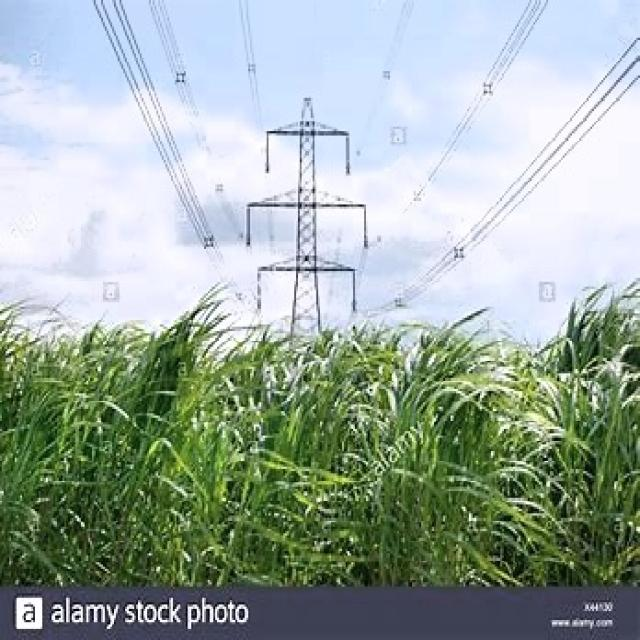utility poles: (230, 56, 386, 584)
